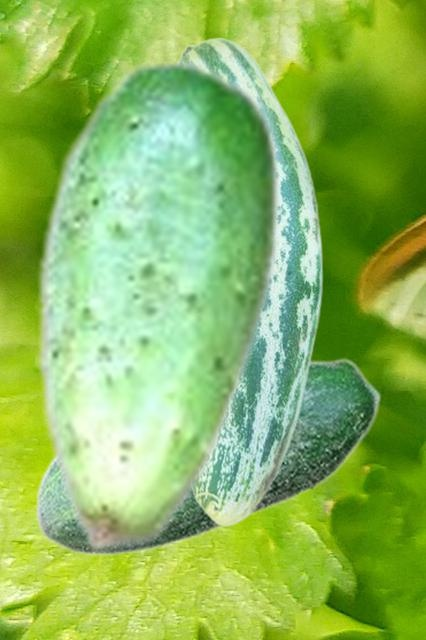cucumber: (35, 56, 280, 553), (177, 36, 322, 526), (34, 357, 381, 555)
